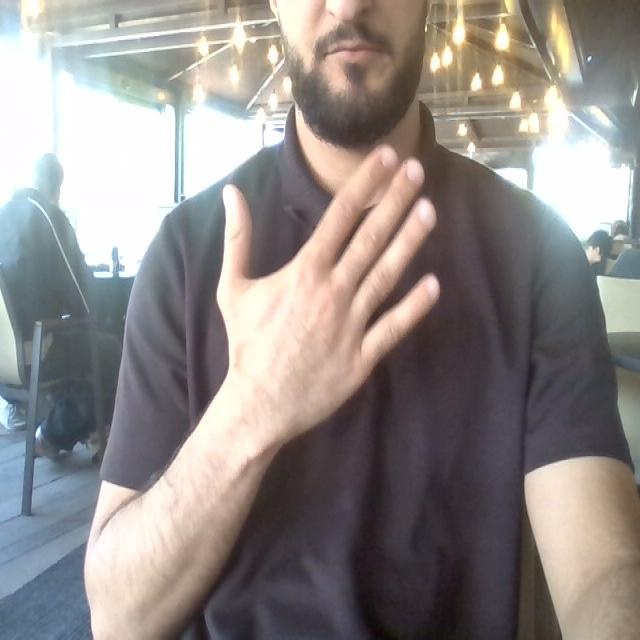Hand: (217, 147, 438, 441)
